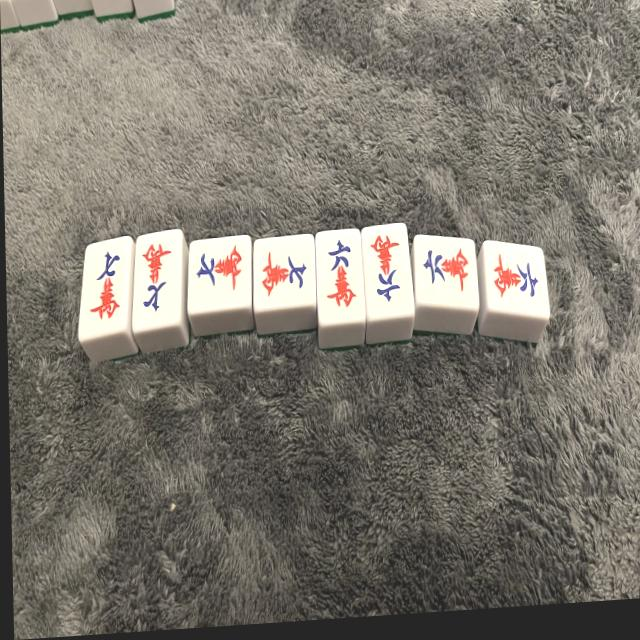6C: (318, 229, 369, 323), (363, 225, 414, 317), (484, 241, 546, 315), (415, 235, 477, 308)
7C: (255, 237, 317, 309), (83, 243, 133, 330), (189, 239, 250, 310), (137, 232, 183, 325)
